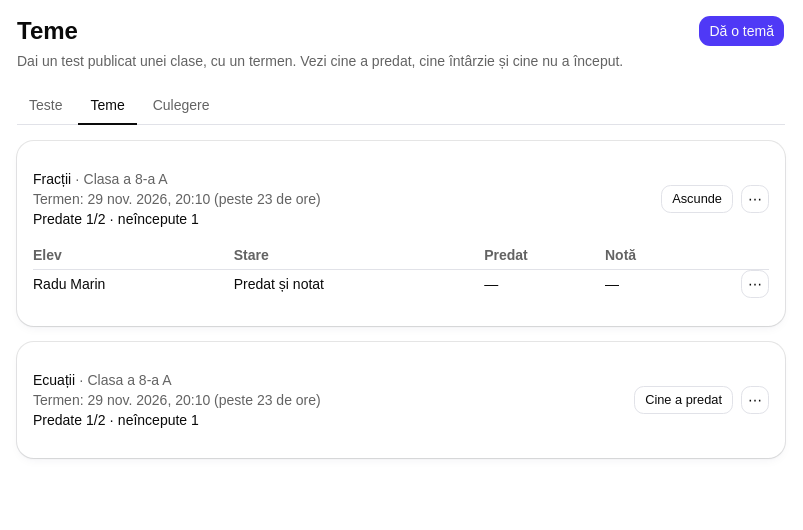
it: AdminAssignmentsPage › gives a student who handed in one more attempt when the test has a limit
This screenshot has width=803, height=530.
Step 1. Click the button named "Excepții pentru Radu Marin" → (755, 284), box [741,270,769,298]
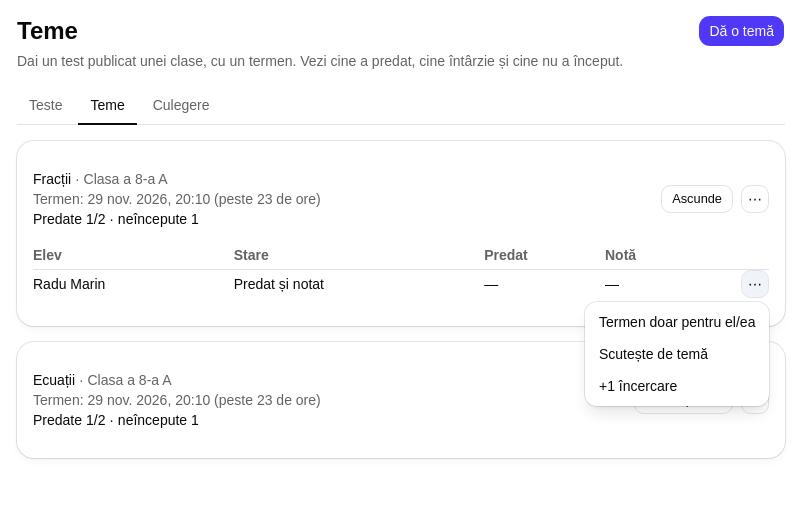
Expected: the menu item "+1 încercare" is shown
Step 2. Click the menu item "+1 încercare" → (638, 386), box [599,378,677,394]
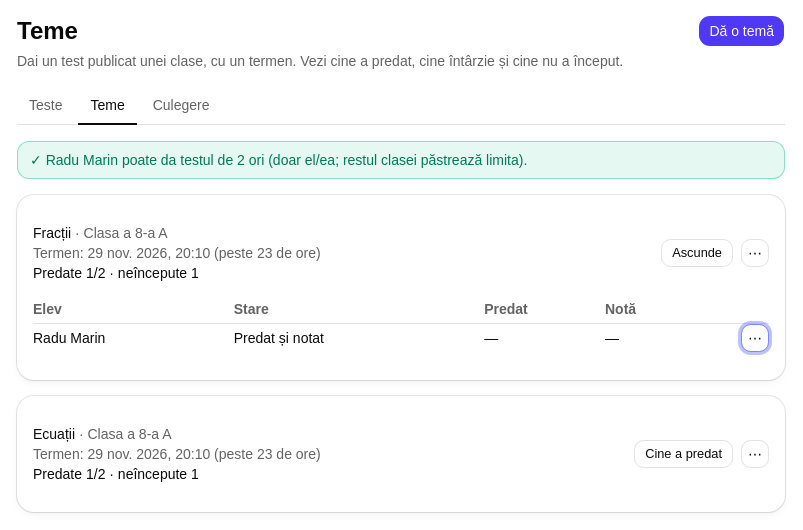
Expected: the text "Radu Marin poate da testul de 2 ori" is shown, [46,152,527,168]
